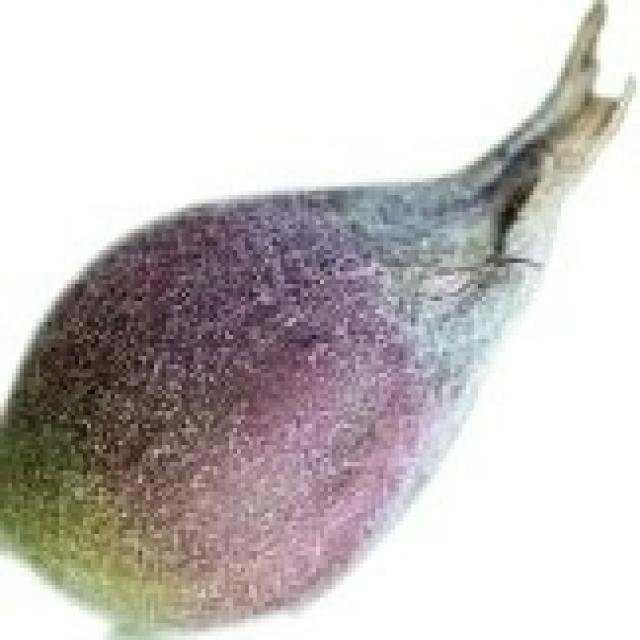20-_ripeness: (3, 19, 612, 627)
